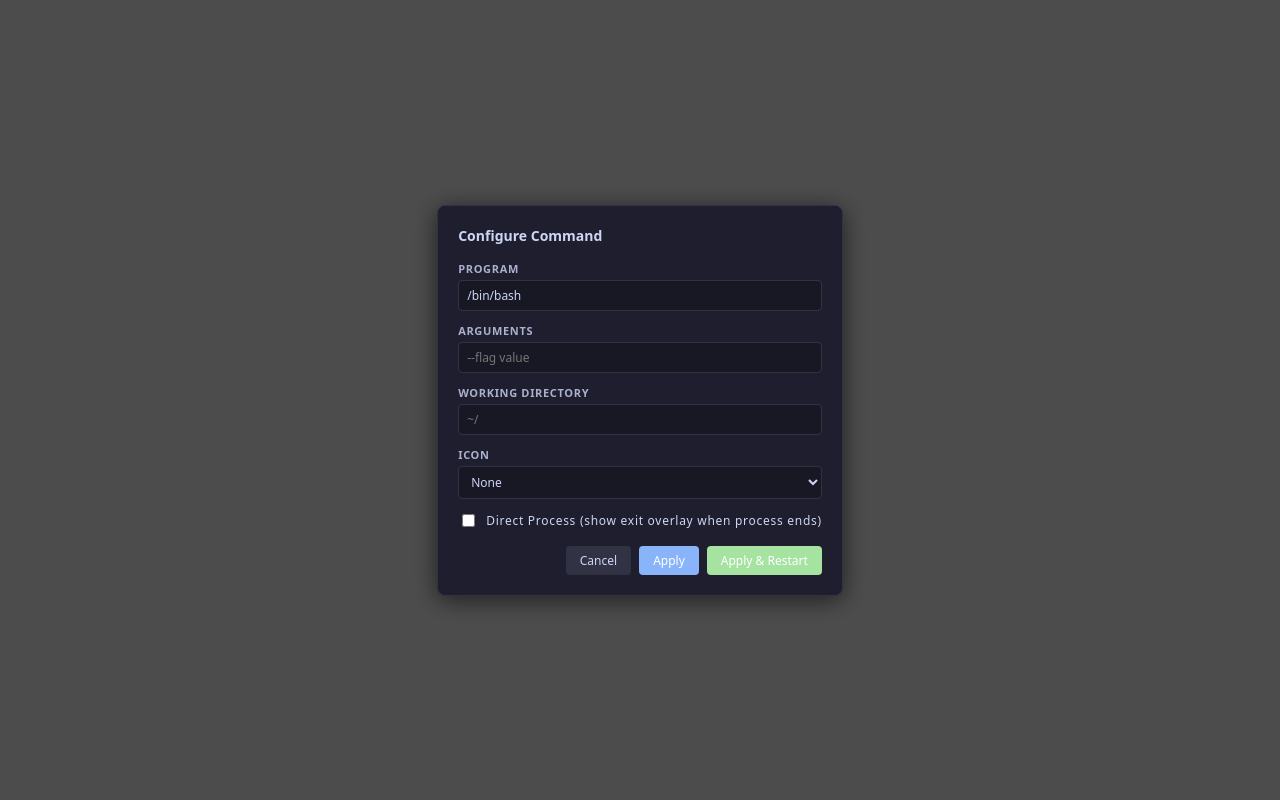
ConfigureCommandDialog's Apply & Restart (#815) › drops the last failure when the next attempt is cancelled
Click the button with class "btn-accent": {"x": 764, "y": 560} [707,546,822,574]
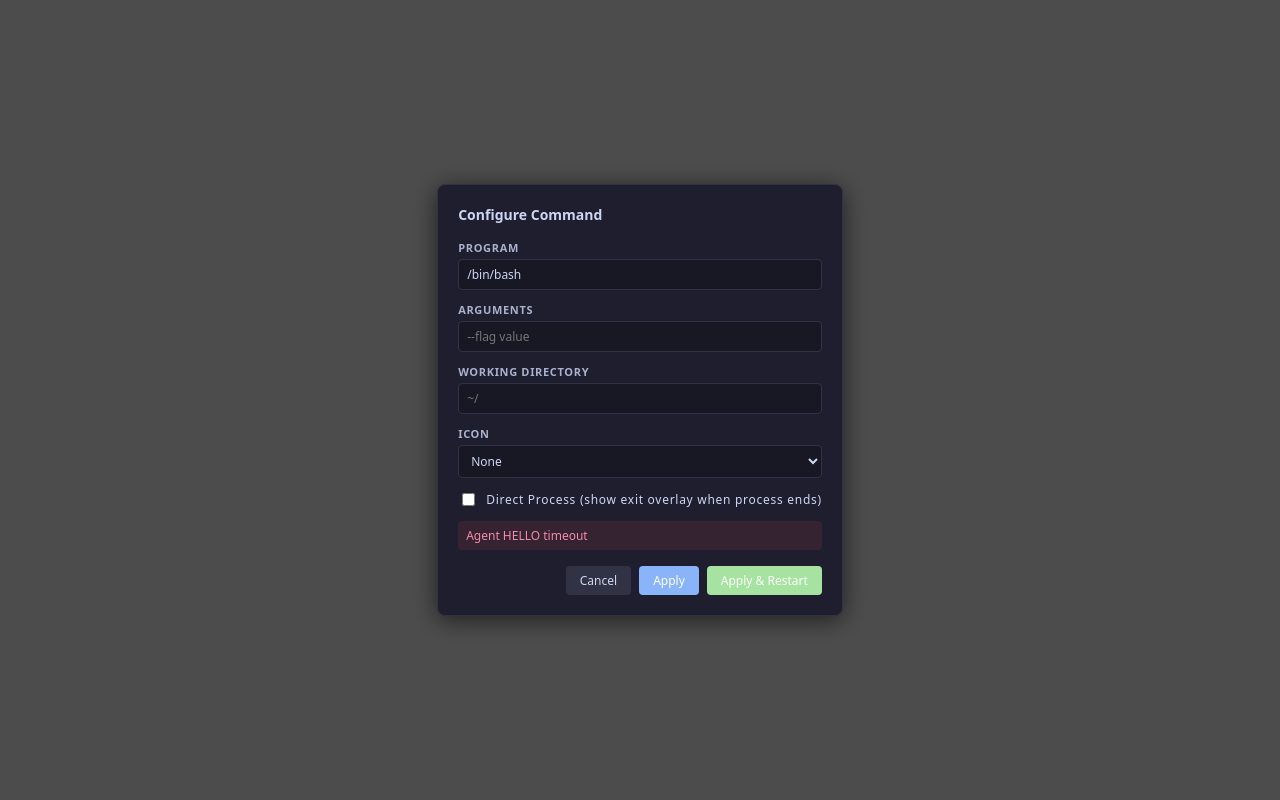
expect the text with class "field-error" reads "Agent HELLO timeout": met, box [466,527,588,544]
Click the button with class "btn-accent": {"x": 764, "y": 580} [707,566,822,595]
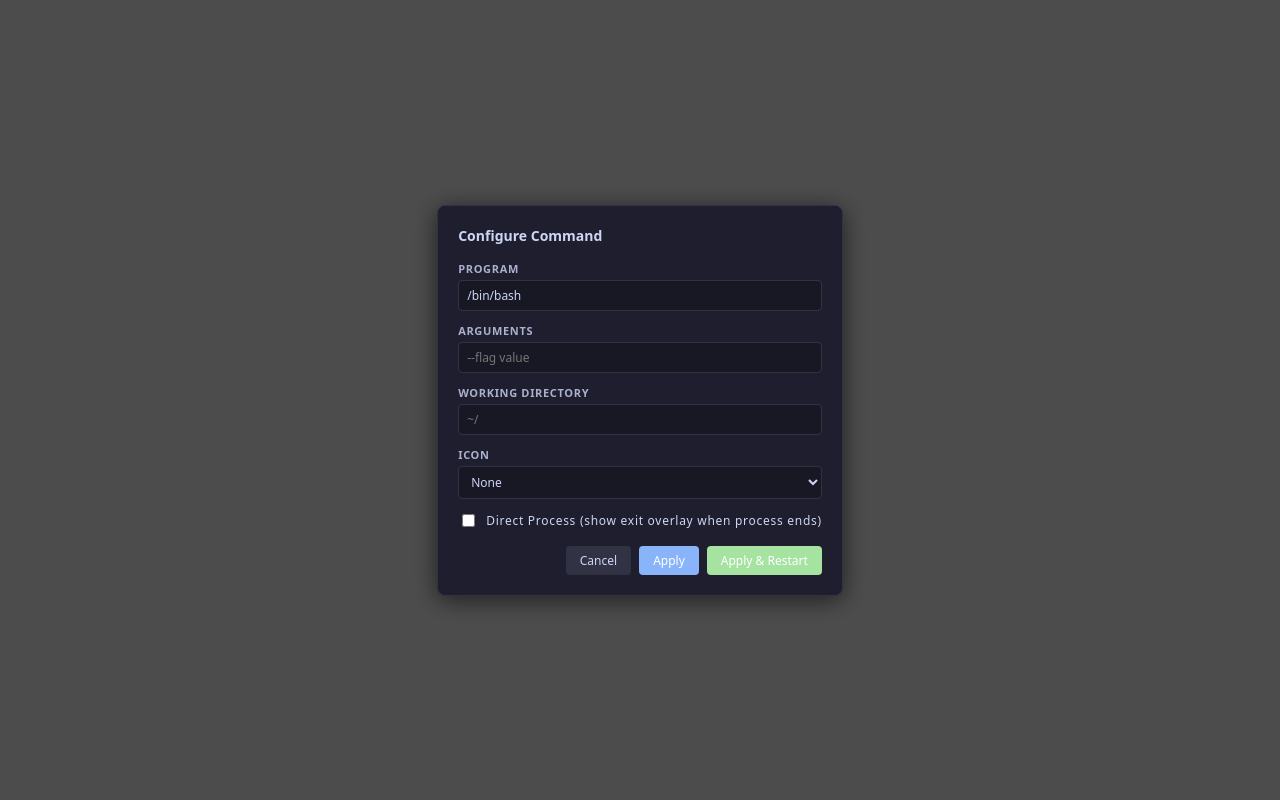
expect the text with class "field-error" is gone: met
